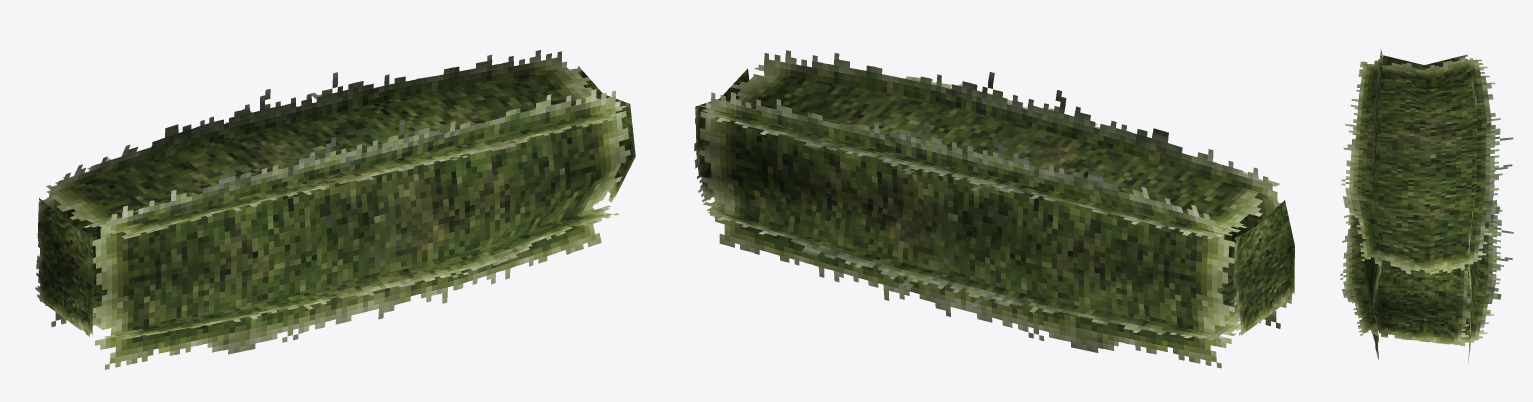
File: Hedge.fbx
3 renders of one model, left to right at view 1: azimuth 30°, elevation 25°; view 2: azimuth 150°, elevation 25°; view 3: azimuth 270°, elevation 25°, orthographic. The views are drawn at different scales.
Parts seen in each view (by area): view 1: Hedge.001; view 2: Hedge.001; view 3: Hedge.001.
Part boxes in pixels (x1,y1,x2,y2): Hedge.001: [35, 50, 635, 369]; Hedge.001: [694, 50, 1294, 368]; Hedge.001: [1340, 49, 1513, 362].
Size of the model in its own units: 1381 by 491 by 491.
Materials: 1 (1 with a texture image).
